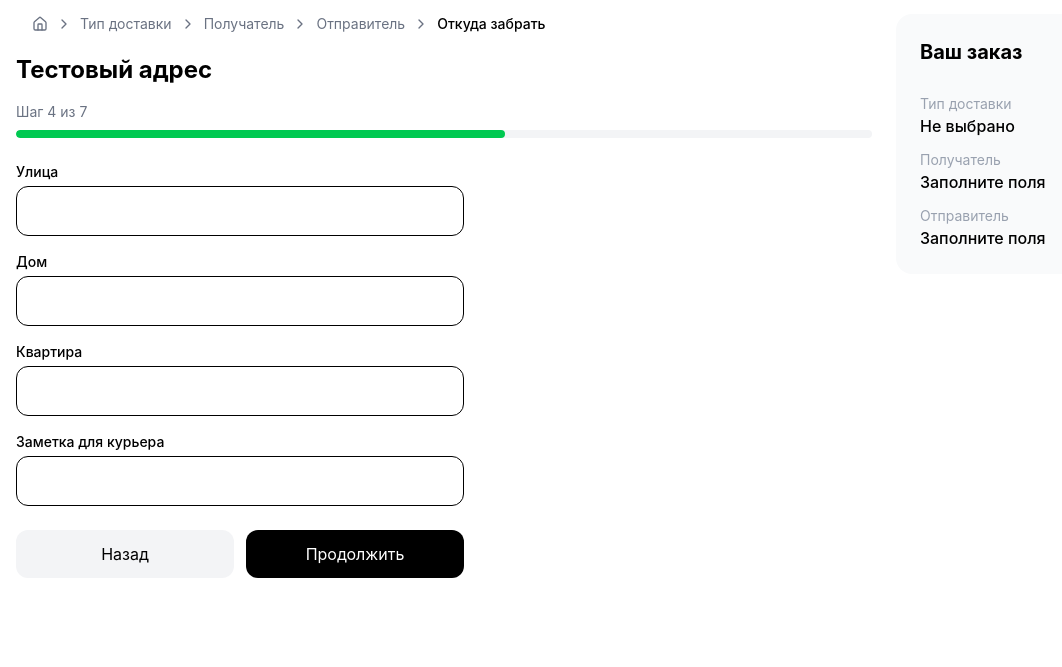
Test case: AddressForm › validate › display errors if form is empty
The image size is (1062, 667).
Click the button "Продолжить" at [355, 554], box [246,530,464,578]
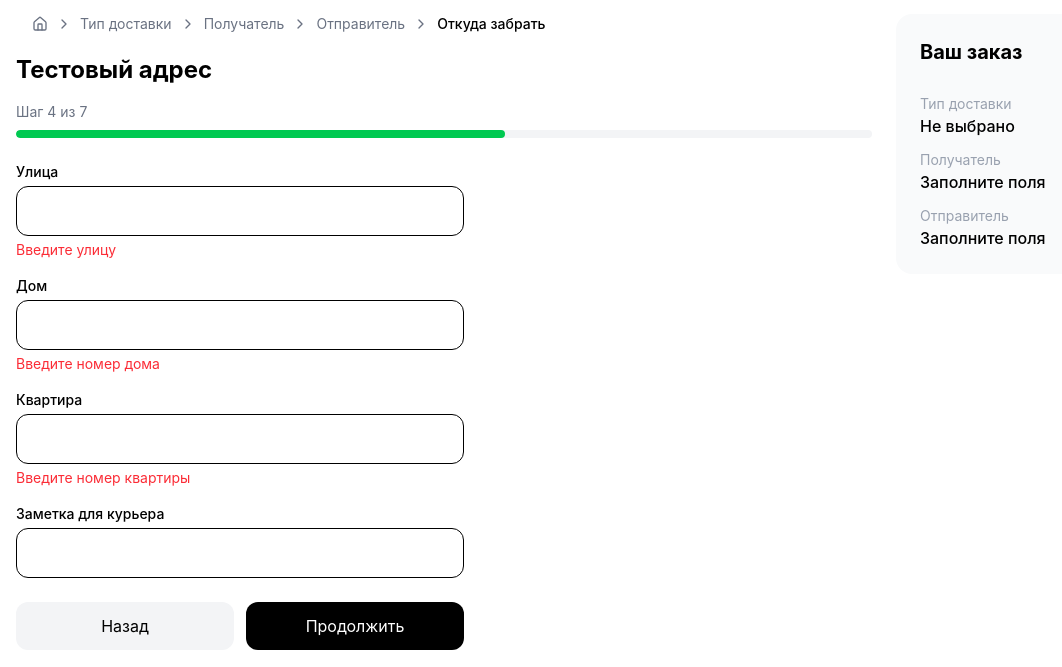
expect the text "Введите улицу" is shown: met, box [16,241,116,258]
expect the text "Введите номер дома" is shown: met, box [16,355,160,372]
expect the text "Введите номер квартиры" is shown: met, box [16,469,190,486]
